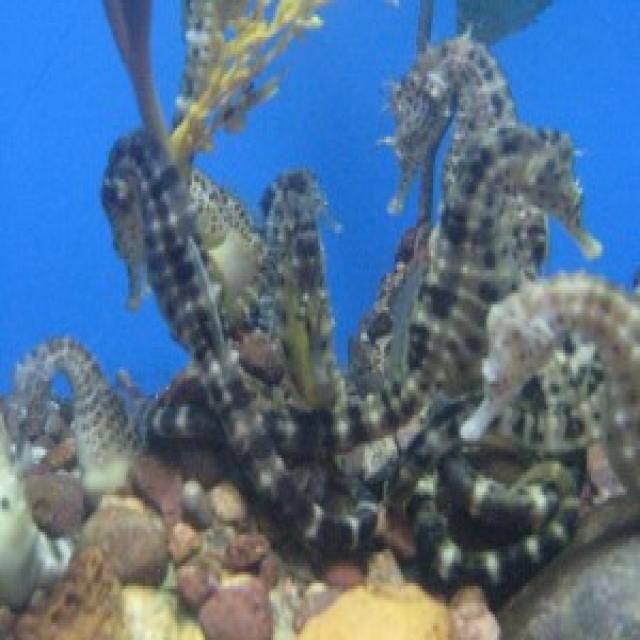Seahorse: (100, 114, 255, 472), (460, 273, 640, 560), (372, 26, 470, 258), (484, 109, 606, 273)
